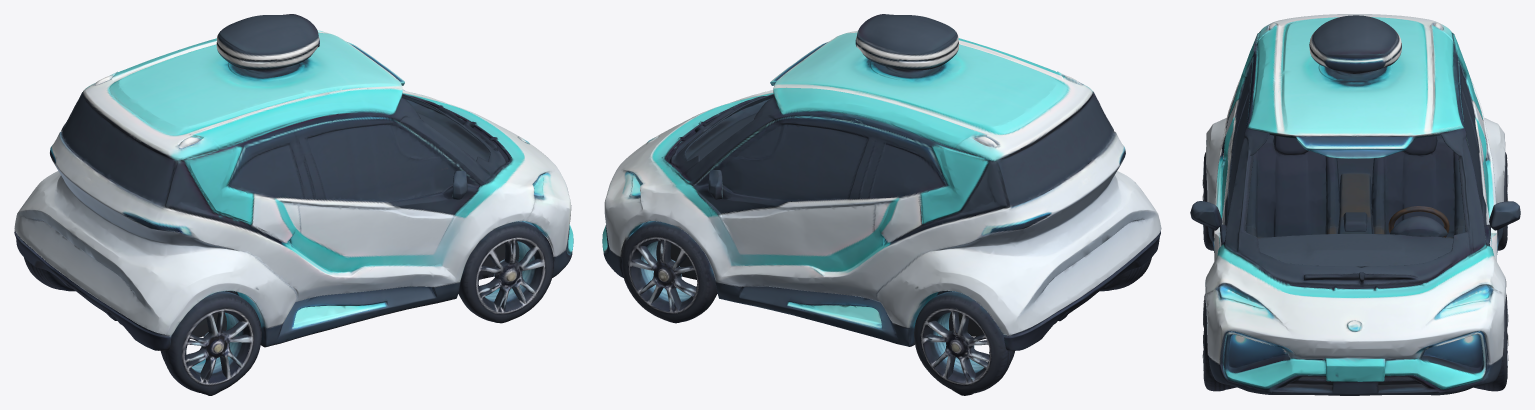
Rendered from robotaxi_wheels.glb.
3 renders of one model, left to right at view 1: azimuth 30°, elevation 25°; view 2: azimuth 150°, elevation 25°; view 3: azimuth 270°, elevation 25°, orthographic.
Parts seen in each view (by area): view 1: Body, Wheel_RR, Wheel_FR, Wheel_RL; view 2: Body, Wheel_RL, Wheel_FL, Wheel_RR; view 3: Body, Wheel_FL, Wheel_FR, Wheel_RR, Wheel_RL.
Boxes of the visible parts, left/top/right/bottom form: Body: left=14, top=14, right=573, bottom=350; Wheel_RR: left=160, top=284, right=267, bottom=395; Wheel_FR: left=458, top=221, right=555, bottom=323; Wheel_RL: left=24, top=257, right=75, bottom=291; Body: left=602, top=14, right=1161, bottom=350; Wheel_RL: left=907, top=283, right=1015, bottom=395; Wheel_FL: left=619, top=221, right=717, bottom=323; Wheel_RR: left=1100, top=257, right=1151, bottom=291; Body: left=1190, top=14, right=1520, bottom=395; Wheel_FL: left=1474, top=294, right=1508, bottom=391; Wheel_FR: left=1202, top=286, right=1236, bottom=390; Wheel_RR: left=1202, top=135, right=1213, bottom=250; Wheel_RL: left=1497, top=142, right=1508, bottom=250.
Bounding box in the file's own units: 1 × 0.5856 × 0.6238.
Materials: 1 (1 with a texture image).
